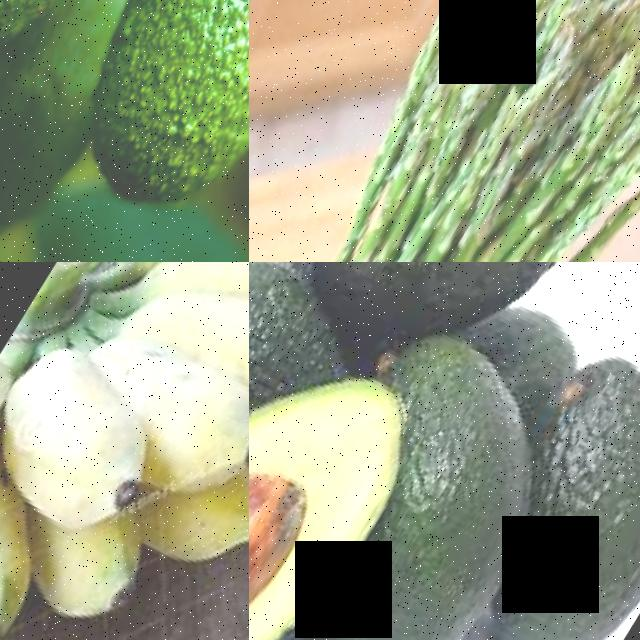asparagus: (249, 0, 640, 262)
avocado: (280, 350, 617, 640), (249, 311, 453, 640), (24, 0, 249, 255), (465, 327, 640, 640), (0, 0, 218, 153), (294, 262, 604, 362), (249, 262, 388, 398)
banana: (0, 322, 204, 545), (113, 262, 249, 443), (20, 485, 175, 640), (0, 454, 91, 640), (156, 262, 249, 367), (202, 470, 249, 576)
